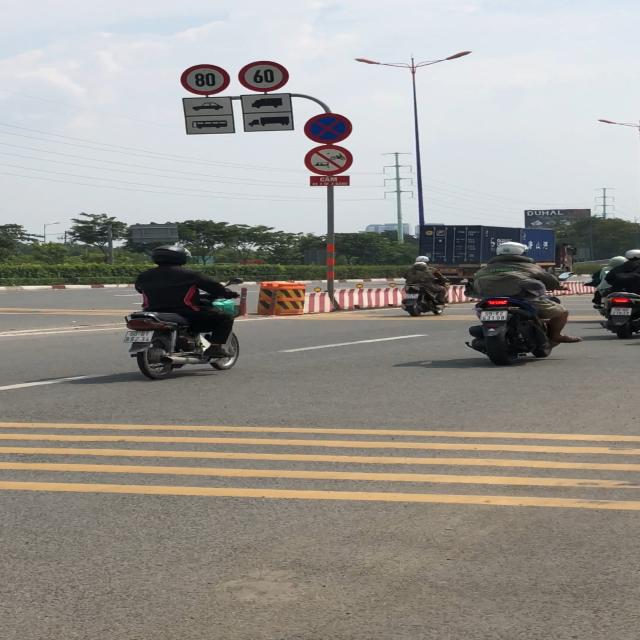Bien bao cam dung xe va do xe: (300, 110, 355, 146)
Bien bao toc do toi da cho phep: (233, 60, 294, 91), (178, 63, 232, 97)
